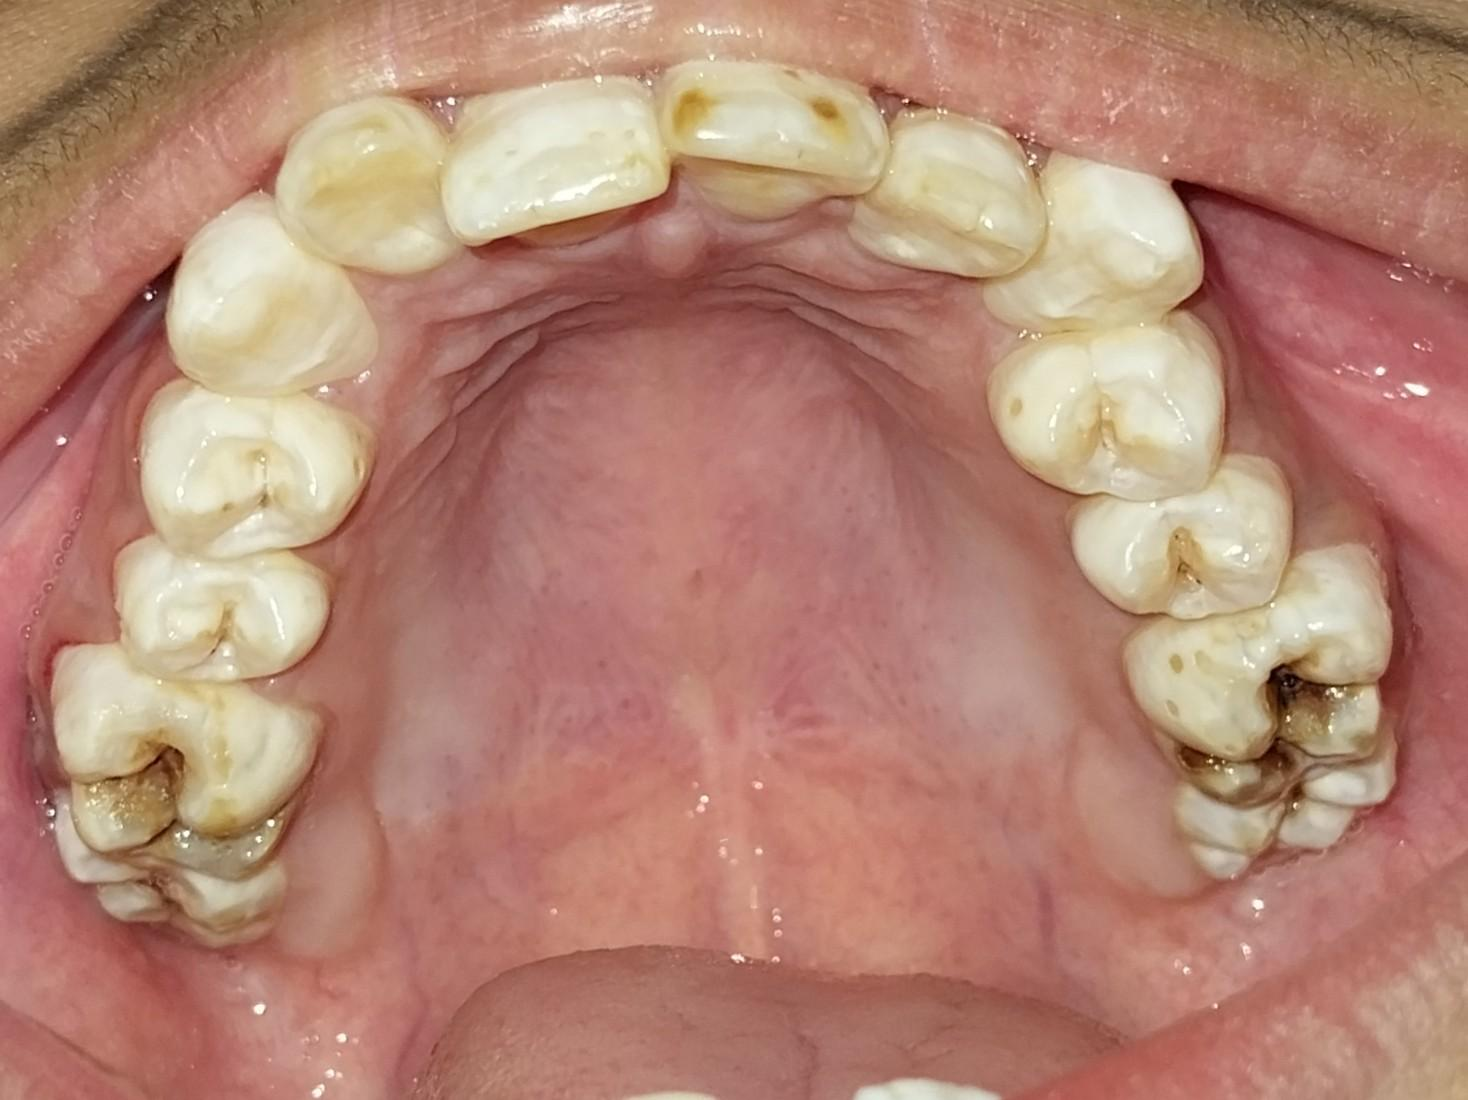D: (1125, 546, 1392, 806), (51, 642, 324, 882)
